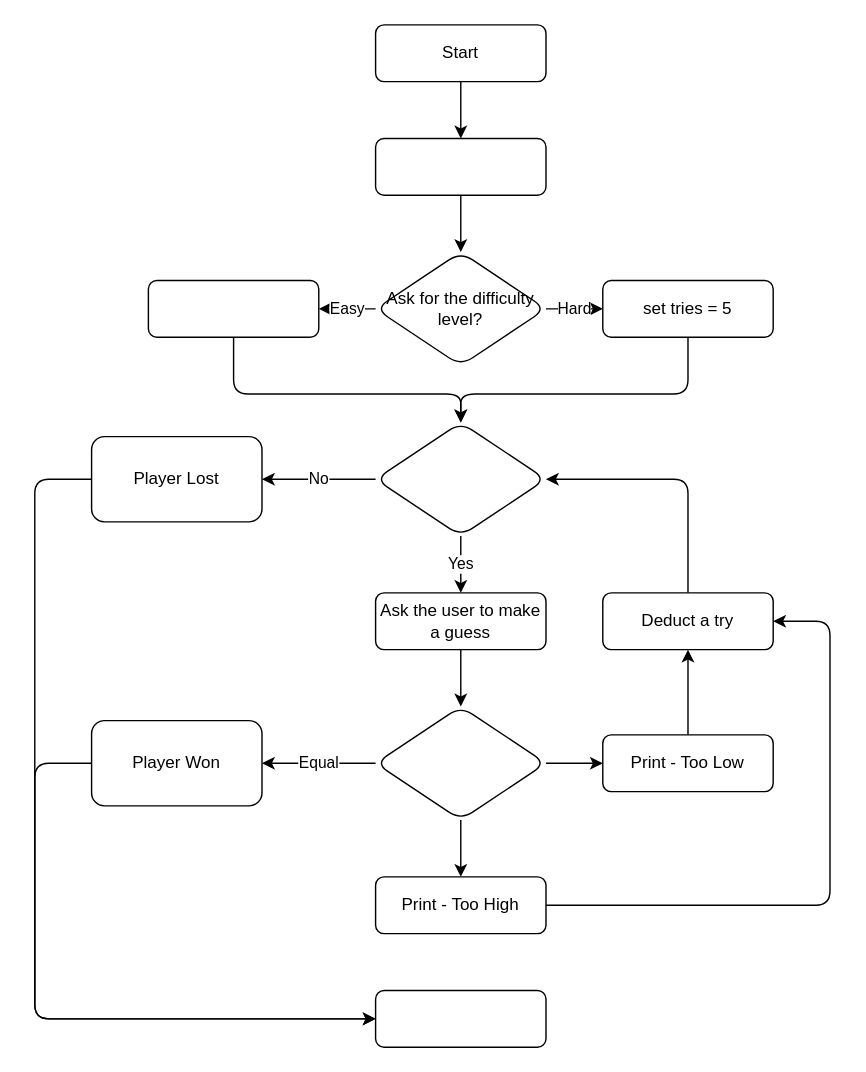
Image size: 866x1072. Some labels were removed from this diagram. The shapes that lost their labels are listed below. From the top down, each one's box as (x1, y1, x2, y2) in pixels, then its label:
(374, 137, 546, 195): Set a random number between 1-100
(147, 279, 319, 337): set tries = 10
(374, 421, 546, 536): tries > 0?
(374, 705, 546, 820): Compare the guess
(374, 989, 546, 1047): End
